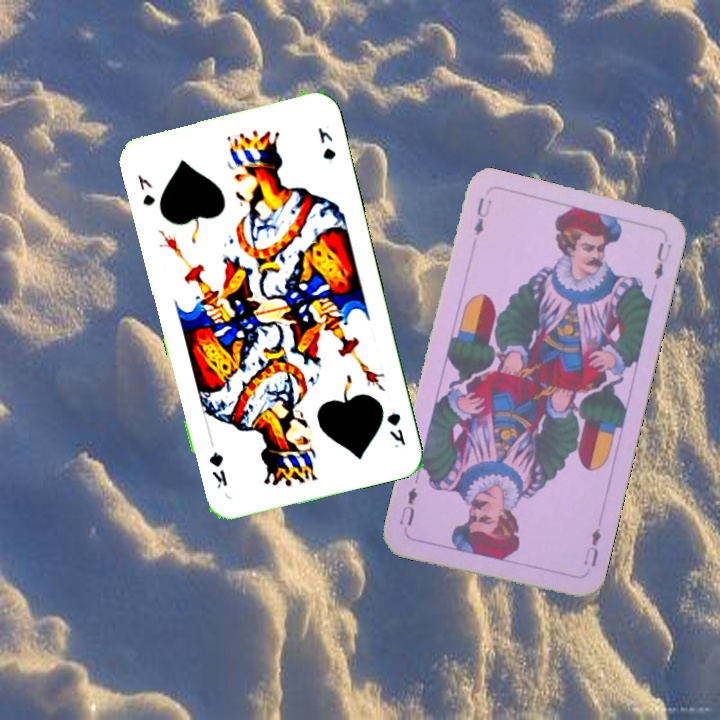EU: (470, 193, 495, 238), (580, 524, 604, 570)
GK: (382, 406, 409, 451), (133, 170, 158, 209)
